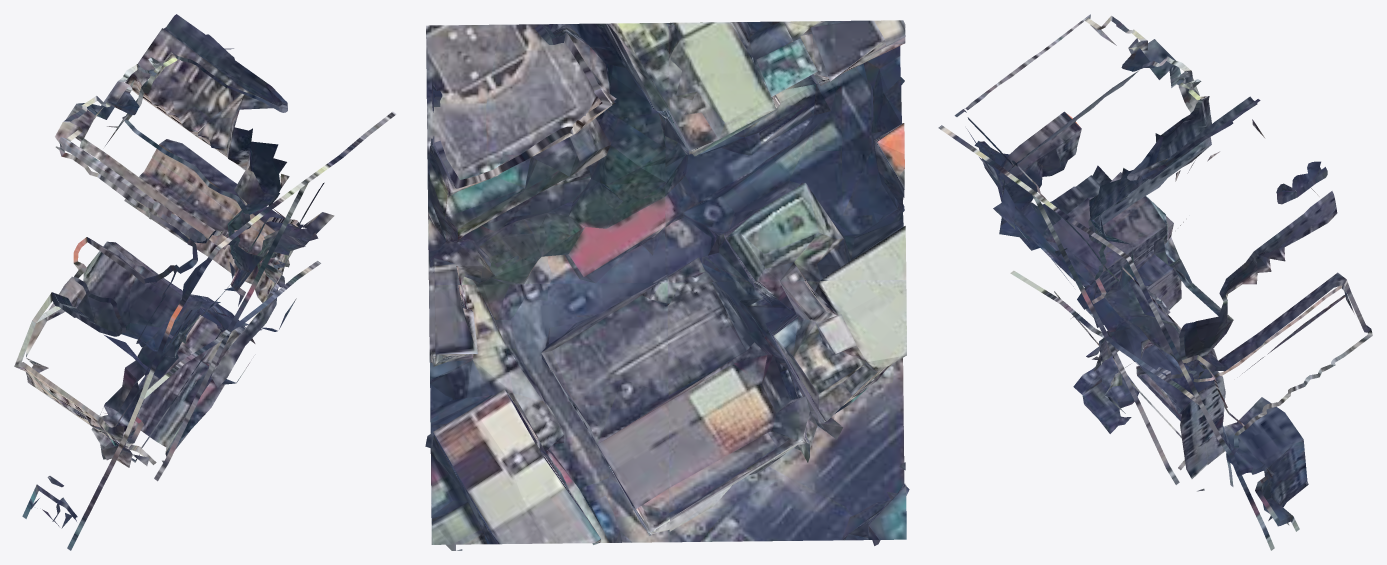
The picture shows the model from 3 angles, left to right: view 1: azimuth 30°, elevation 25°; view 2: azimuth 150°, elevation 25°; view 3: azimuth 270°, elevation 25°; orthographic projection. The views are drawn at different scales.
Bounding box in the file's own units: 82.13 × 87.24 × 82.81.
2 materials, 2 textured.
